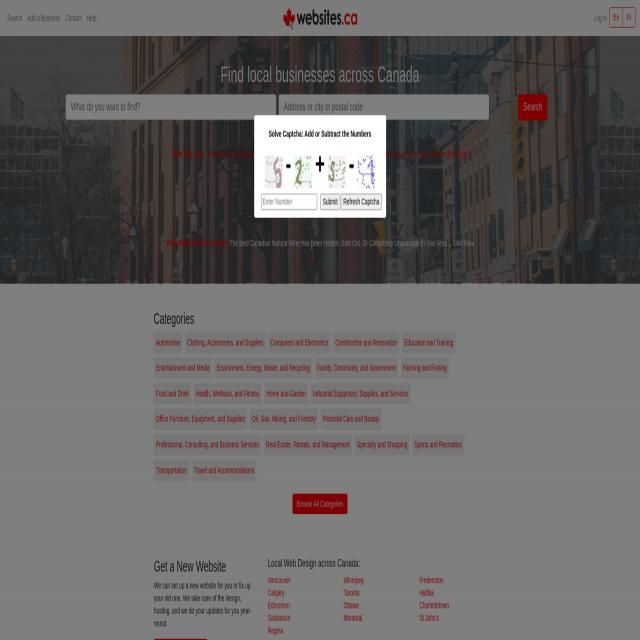button: (341, 194, 382, 210), (327, 155, 346, 188), (356, 156, 374, 190), (265, 156, 283, 188), (294, 156, 312, 188), (320, 194, 340, 210)
field: (261, 193, 317, 210)
